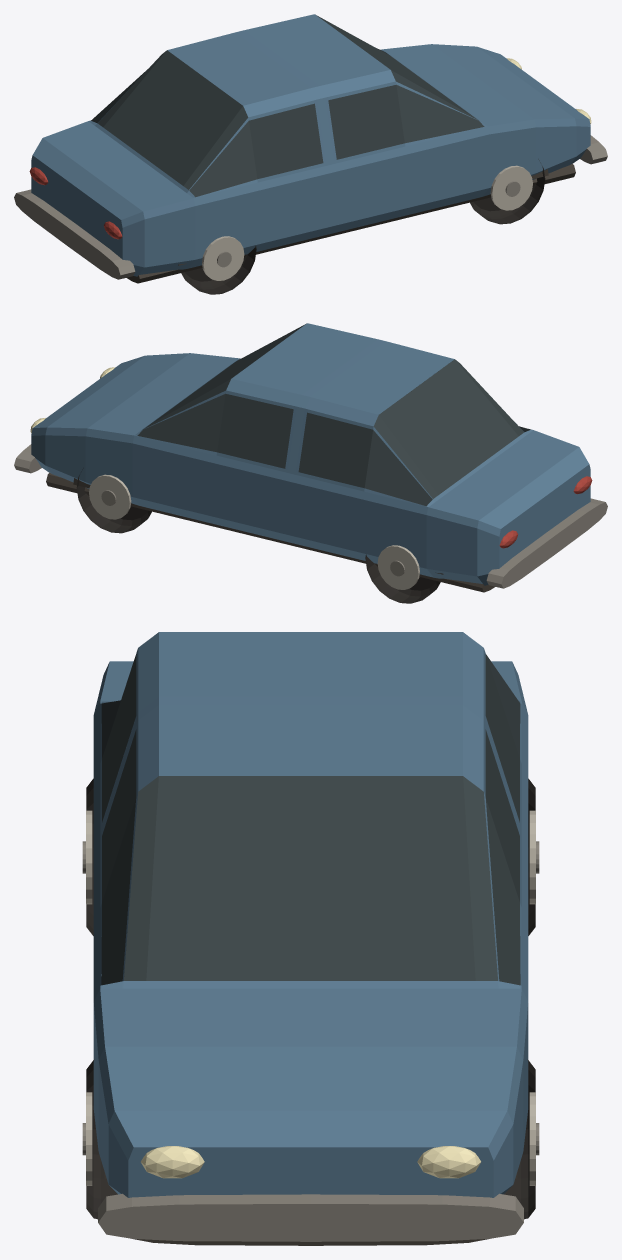
File: sedan-deniz-mavisi.glb
3 views of the same model, one above another, from view 1: azimuth 30°, elevation 25°; view 2: azimuth 150°, elevation 25°; view 3: azimuth 270°, elevation 25° (orthographic). The views are drawn at different scales.
Visible parts, largest first — view 1: a_deniz, cam, tampon, jant, lastik, ic, stop; view 2: a_deniz, cam, tampon, jant, lastik, ic, stop; view 3: a_deniz, cam, tampon, lastik, far, jant, ic.
Boxes of the visible parts, x1,y1,x2,y2 form: a_deniz: (31,14,590,276); cam: (91,14,484,197); tampon: (14,135,607,279); jant: (202,165,532,280); lastik: (181,159,545,294); ic: (126,163,575,283); stop: (29,167,122,239); a_deniz: (31,323,590,585); cam: (137,323,530,506); tampon: (14,444,607,588); jant: (89,474,419,589); lastik: (76,468,440,603); ic: (46,472,495,592); stop: (499,476,592,548); a_deniz: (93,632,528,1197); cam: (101,654,520,985); tampon: (82,841,539,1241); lastik: (86,778,535,1219); far: (141,1146,480,1178); jant: (86,810,535,1185); ic: (104,1172,517,1245).
Size of the model in its own units: 4.56 by 1.51 by 1.85.
